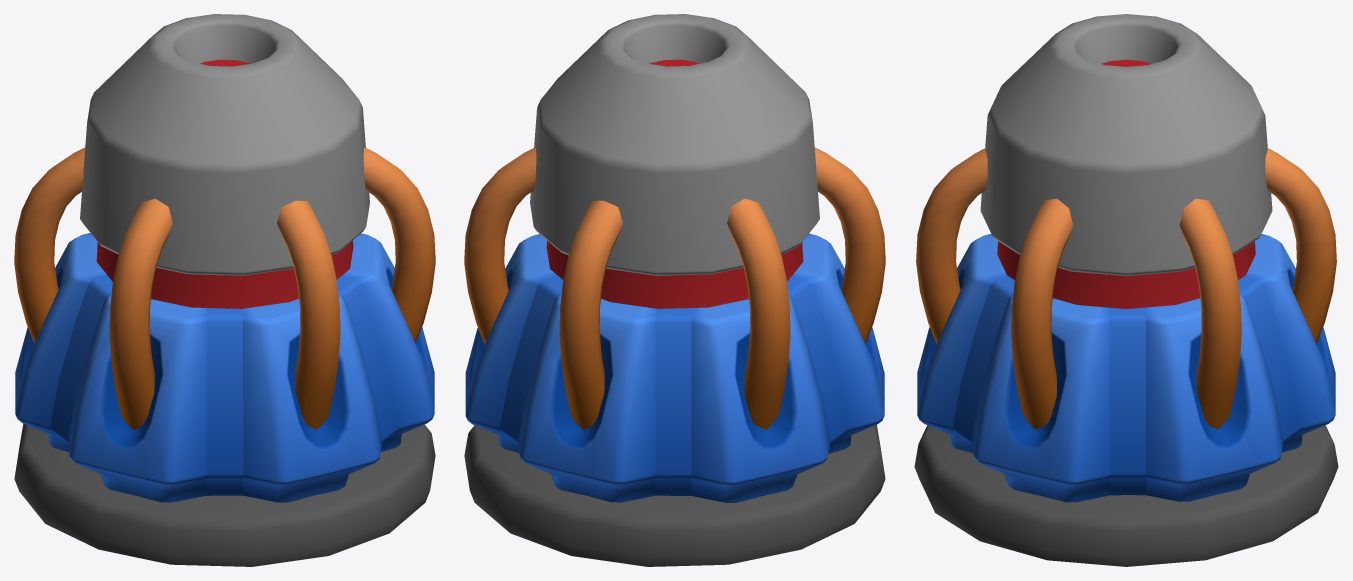
File: obstacle_4_001.fbx
The picture shows the model from 3 angles, left to right: view 1: azimuth 30°, elevation 25°; view 2: azimuth 150°, elevation 25°; view 3: azimuth 270°, elevation 25°; orthographic projection.
Visible parts, largest first — view 1: obstacle_4_001; view 2: obstacle_4_001; view 3: obstacle_4_001.
Part boxes in pixels (<box>): obstacle_4_001: <box>14,14,435,566</box>; obstacle_4_001: <box>464,14,885,566</box>; obstacle_4_001: <box>914,14,1338,566</box>.
Bounding box in the file's own units: 478 × 478 × 542.
